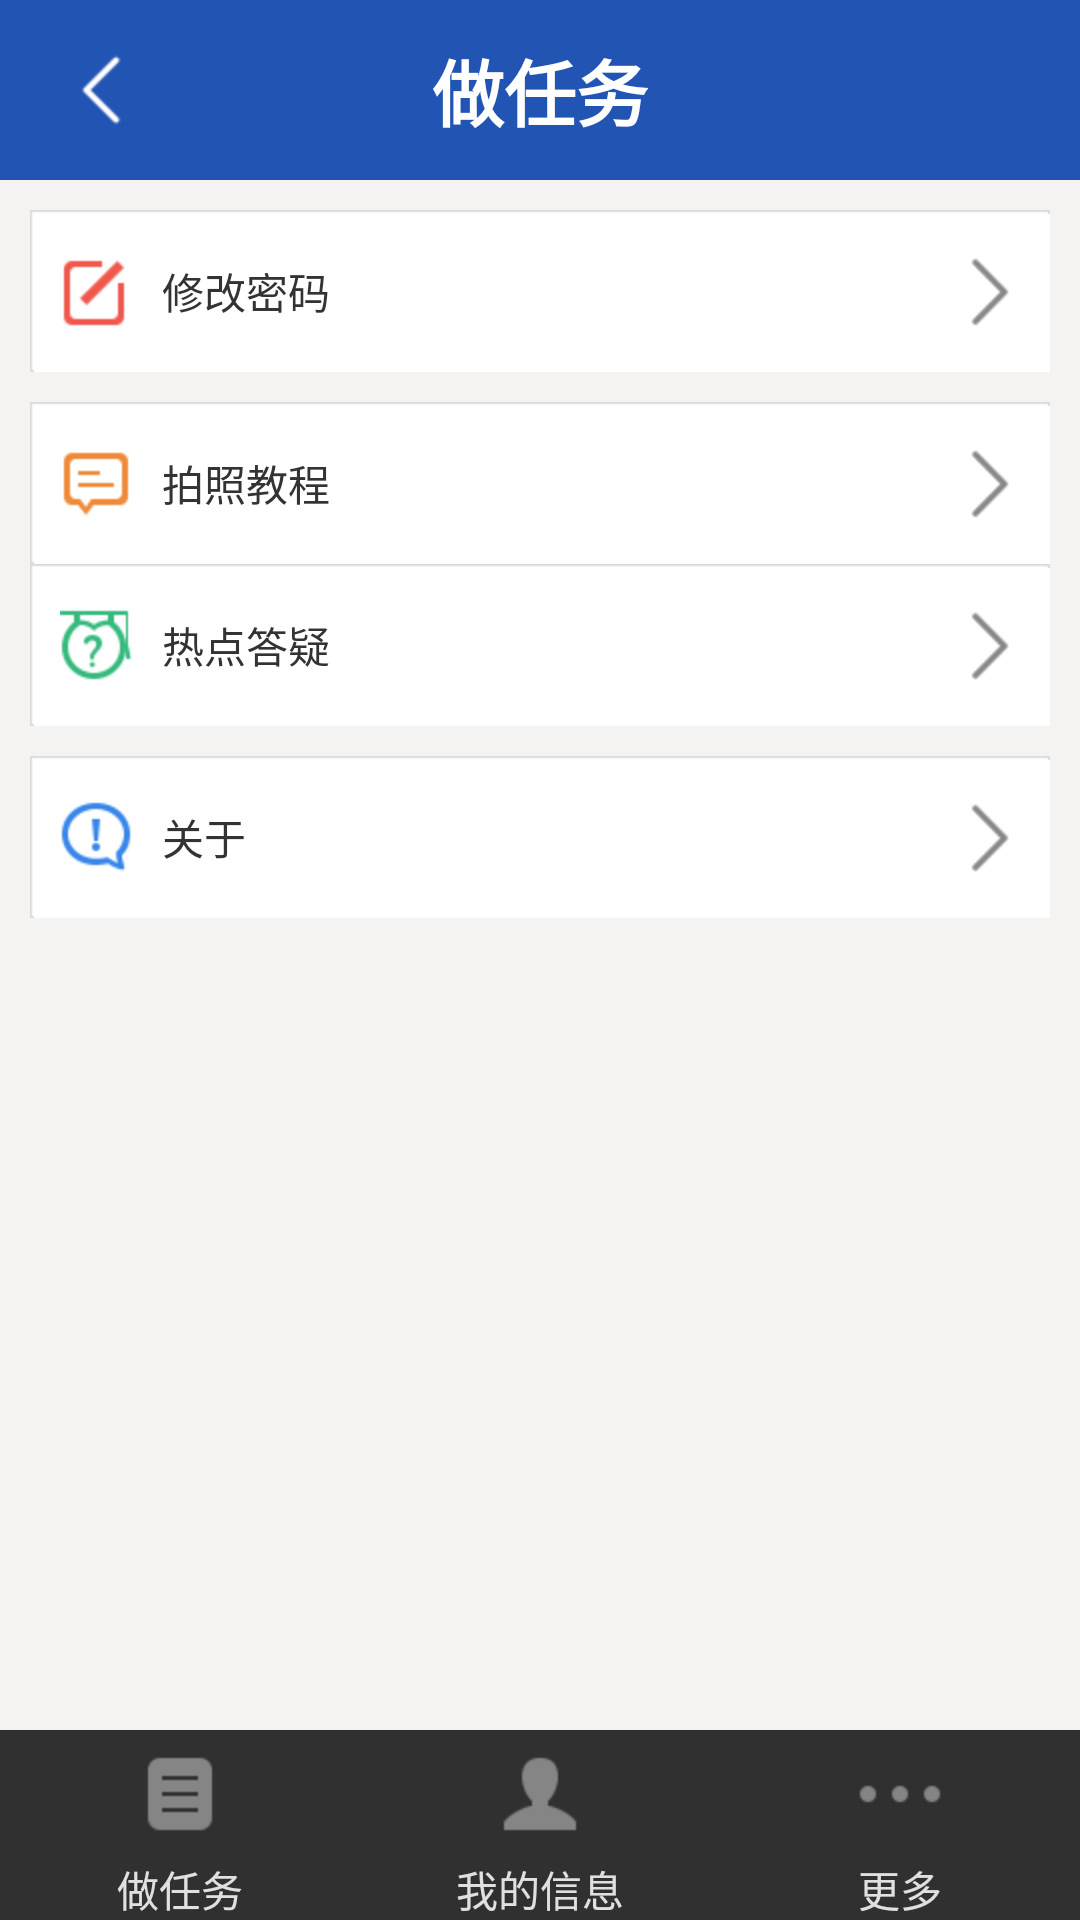

Point at icon controls on the screen. Image size 1080 x 1920, points as [x,y].
back: [101,90]
more item about: [96,836]
more item request: [96,645]
